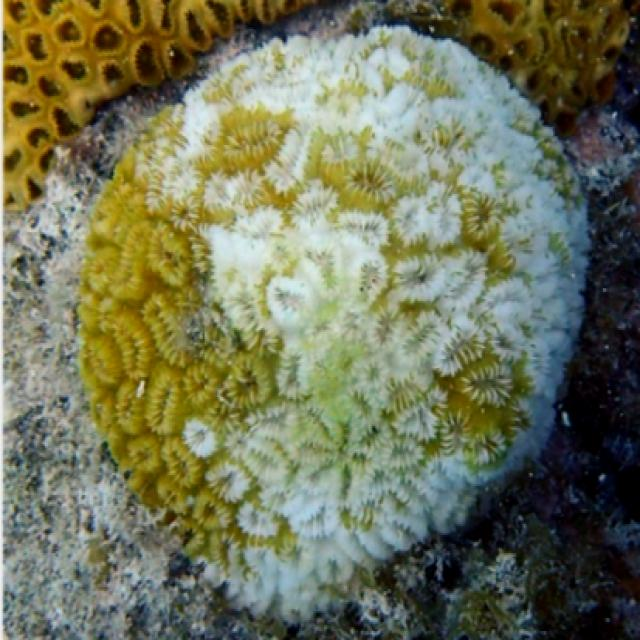Coral: (73, 23, 589, 626), (0, 0, 320, 213), (455, 0, 631, 140)
